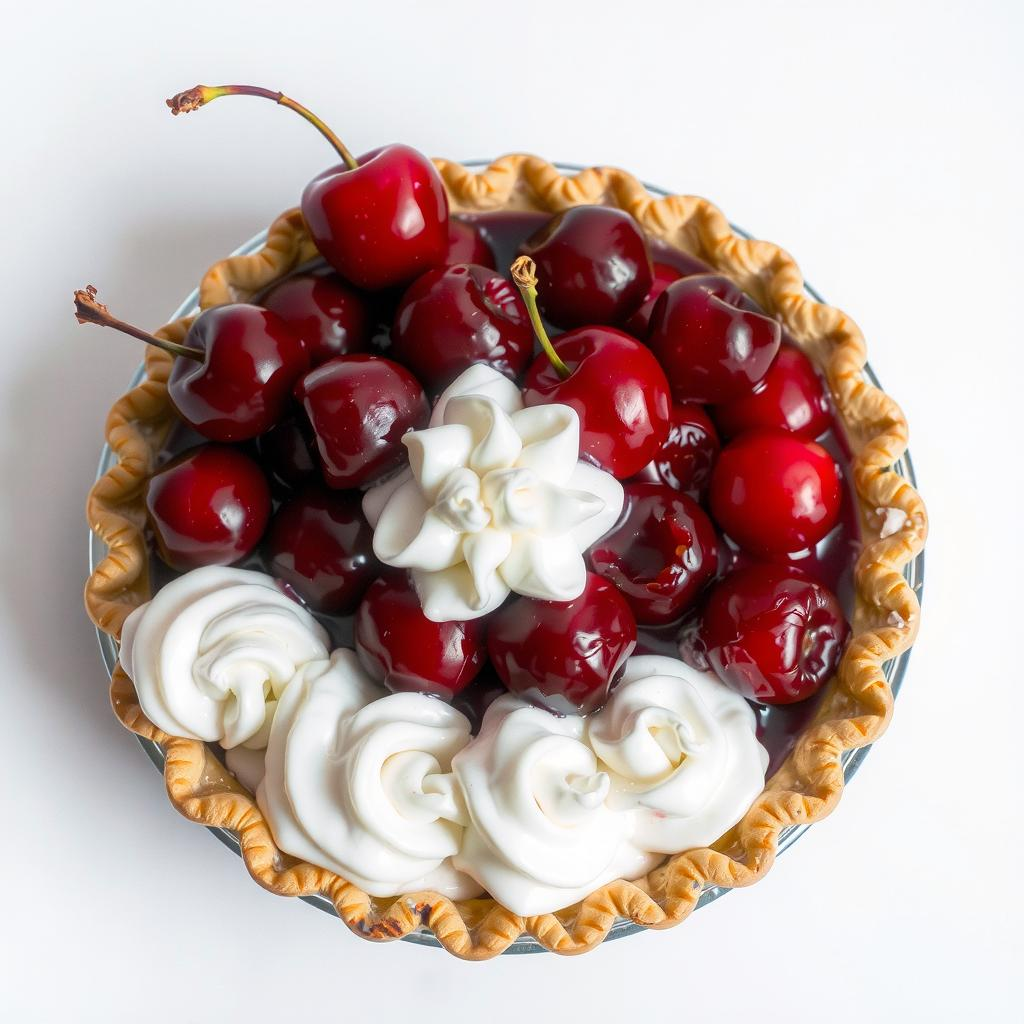pie: (74, 153, 933, 967)
